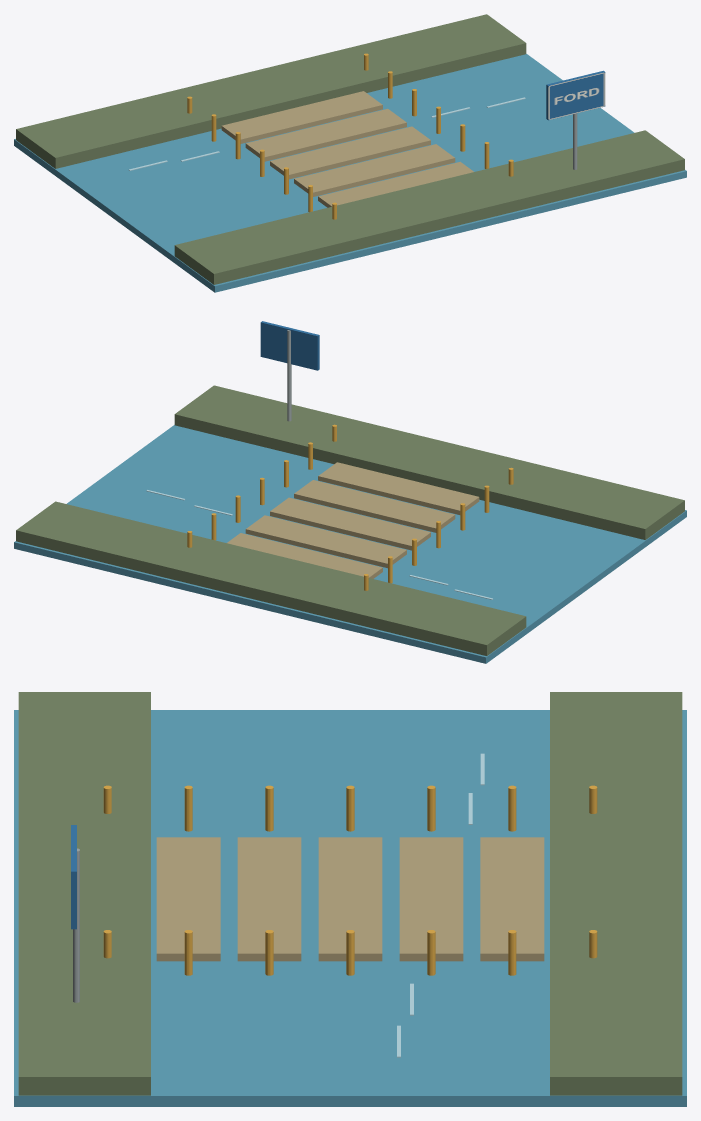
Rendered from scendance-plan-water-crossing.glb.
3 views of the same model, one above another, from view 1: azimuth 30°, elevation 25°; view 2: azimuth 150°, elevation 25°; view 3: azimuth 270°, elevation 25° (orthographic). The views are drawn at different scales.
Bounding box in the file's own units: 7.6 × 1.67 × 5.6.
Materials: 9 (1 with a texture image).
